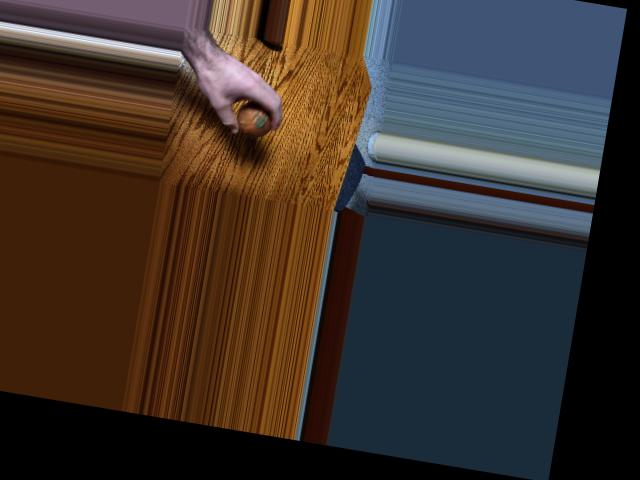onion: (233, 101, 276, 140)
